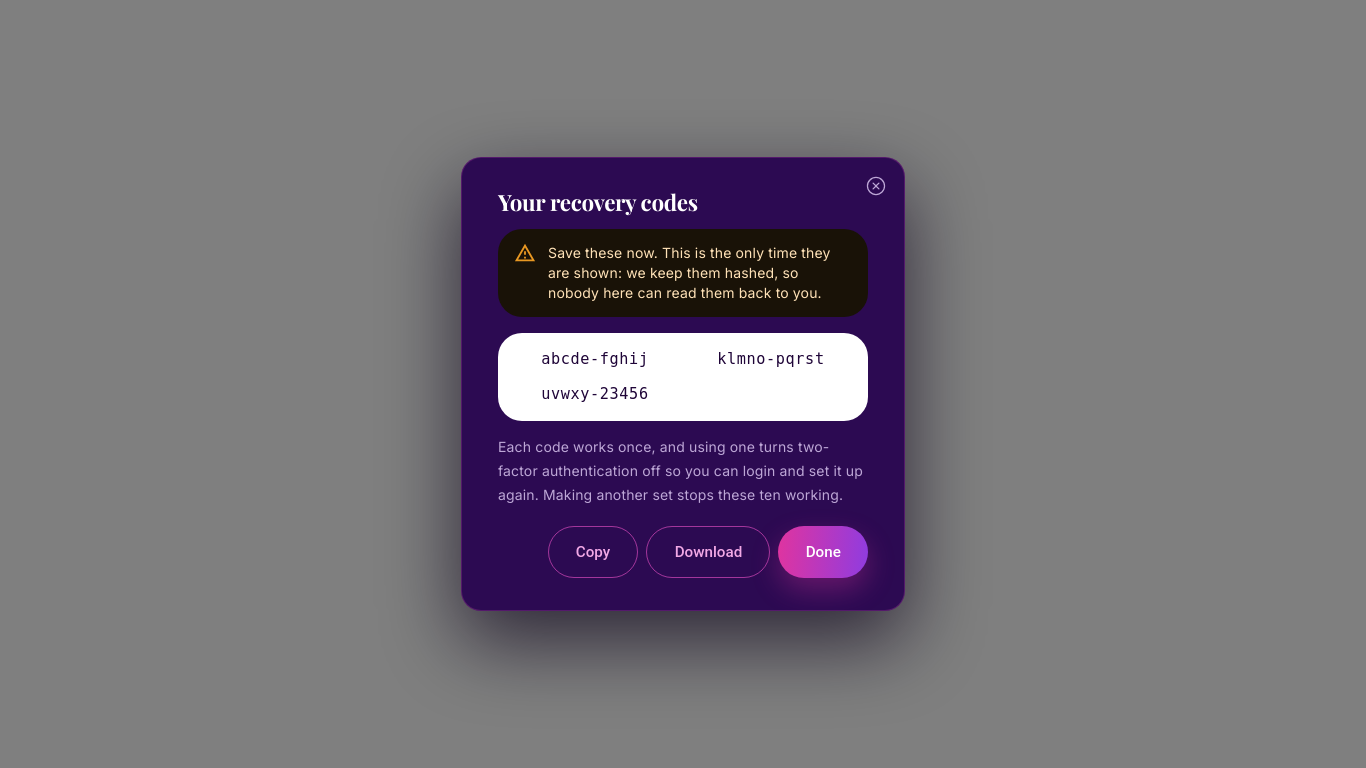
Test: keeping them › copies all of them, one to a line
Click the button "Copy": click(593, 552) [548,526,638,578]
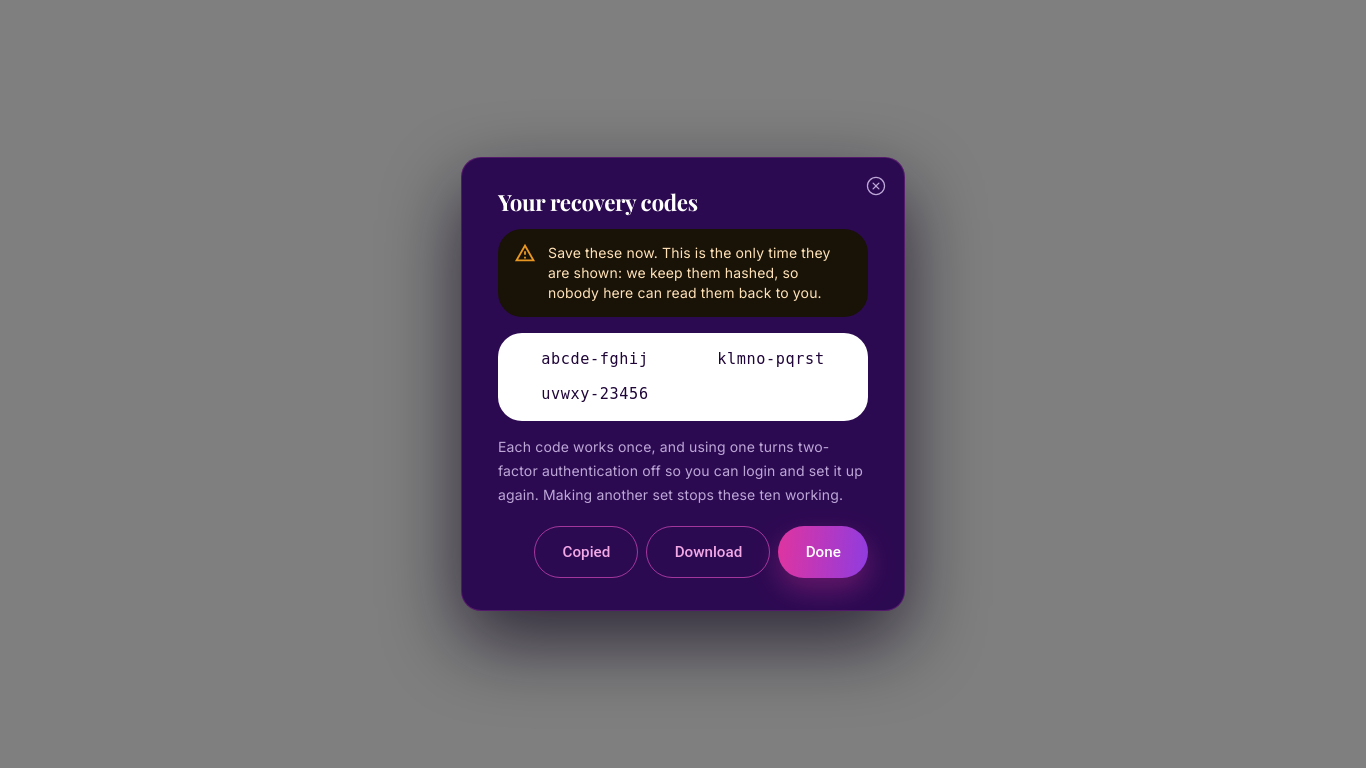
Now the button "Copied" is shown, box [534,526,638,578]
